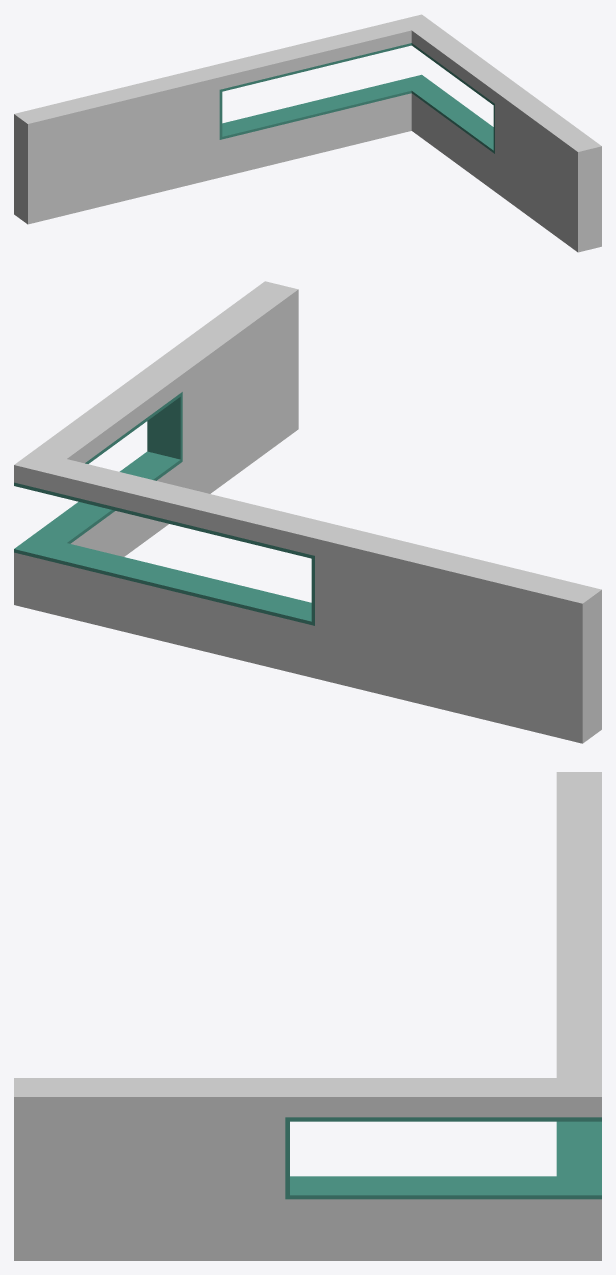
The model's file is 实验室墙.fbx.
3 views of the same model, one above another, from view 1: azimuth 30°, elevation 25°; view 2: azimuth 150°, elevation 25°; view 3: azimuth 270°, elevation 25° (orthographic). The views are drawn at different scales.
Visible parts, largest first — view 1: Mesh1.004, Mesh2; view 2: Mesh1.004, Mesh2; view 3: Mesh1.004, Mesh2.
Boxes of the visible parts, <box> form: Mesh1.004: <box>14,14,601,252</box>; Mesh2: <box>219,43,494,153</box>; Mesh1.004: <box>14,281,601,743</box>; Mesh2: <box>14,392,314,625</box>; Mesh1.004: <box>14,772,601,1260</box>; Mesh2: <box>285,1117,601,1199</box>.
Bounding box in the file's own units: 1700 × 400 × 1300.
